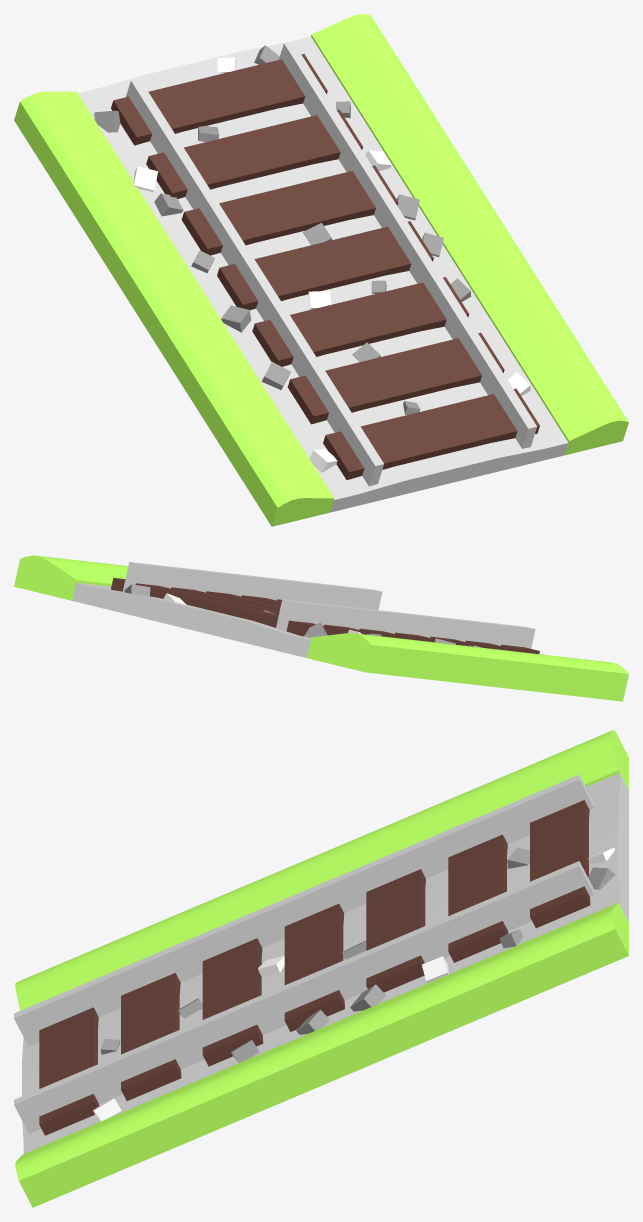
File: railway_track.glb
3 views of the same model, one above another, from view 1: azimuth 30°, elevation 25°; view 2: azimuth 150°, elevation 25°; view 3: azimuth 270°, elevation 25° (orthographic). The views are drawn at different scales.
Parts seen in each view (by area): view 1: Cube.753; view 2: Cube.753; view 3: Cube.753.
Boxes of the visible parts, bbox=[...] form: Cube.753: bbox=[14, 14, 628, 526]; Cube.753: bbox=[14, 555, 628, 701]; Cube.753: bbox=[14, 730, 628, 1207].
Bounding box in the file's own units: 1.95 × 1.32 × 2.55.
1 material, 1 textured.
